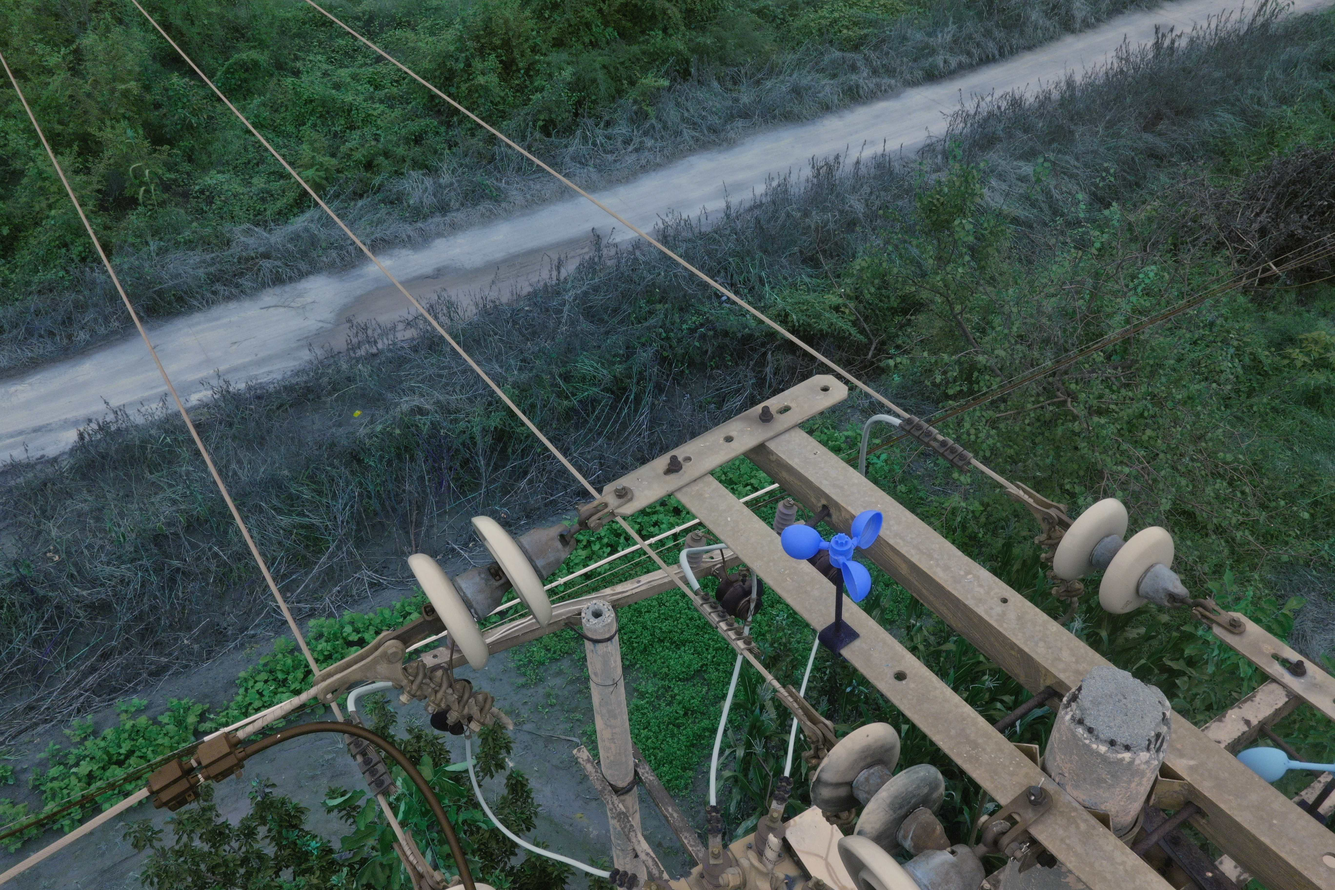severe_soiling_no_discharge_whole: (805, 718, 956, 851)
